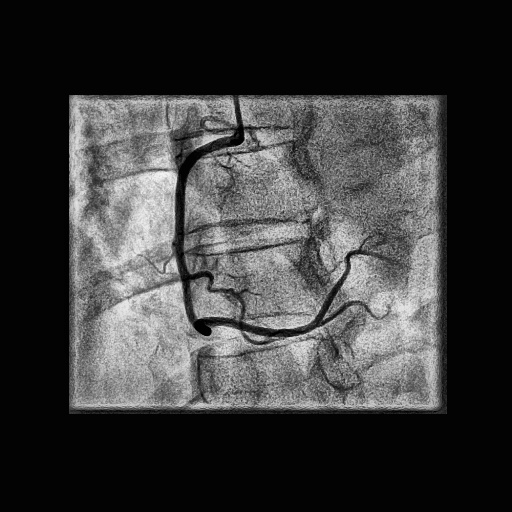pborca: (314, 250, 399, 324)
pda: (317, 300, 392, 327)
rca: (173, 135, 318, 338)
